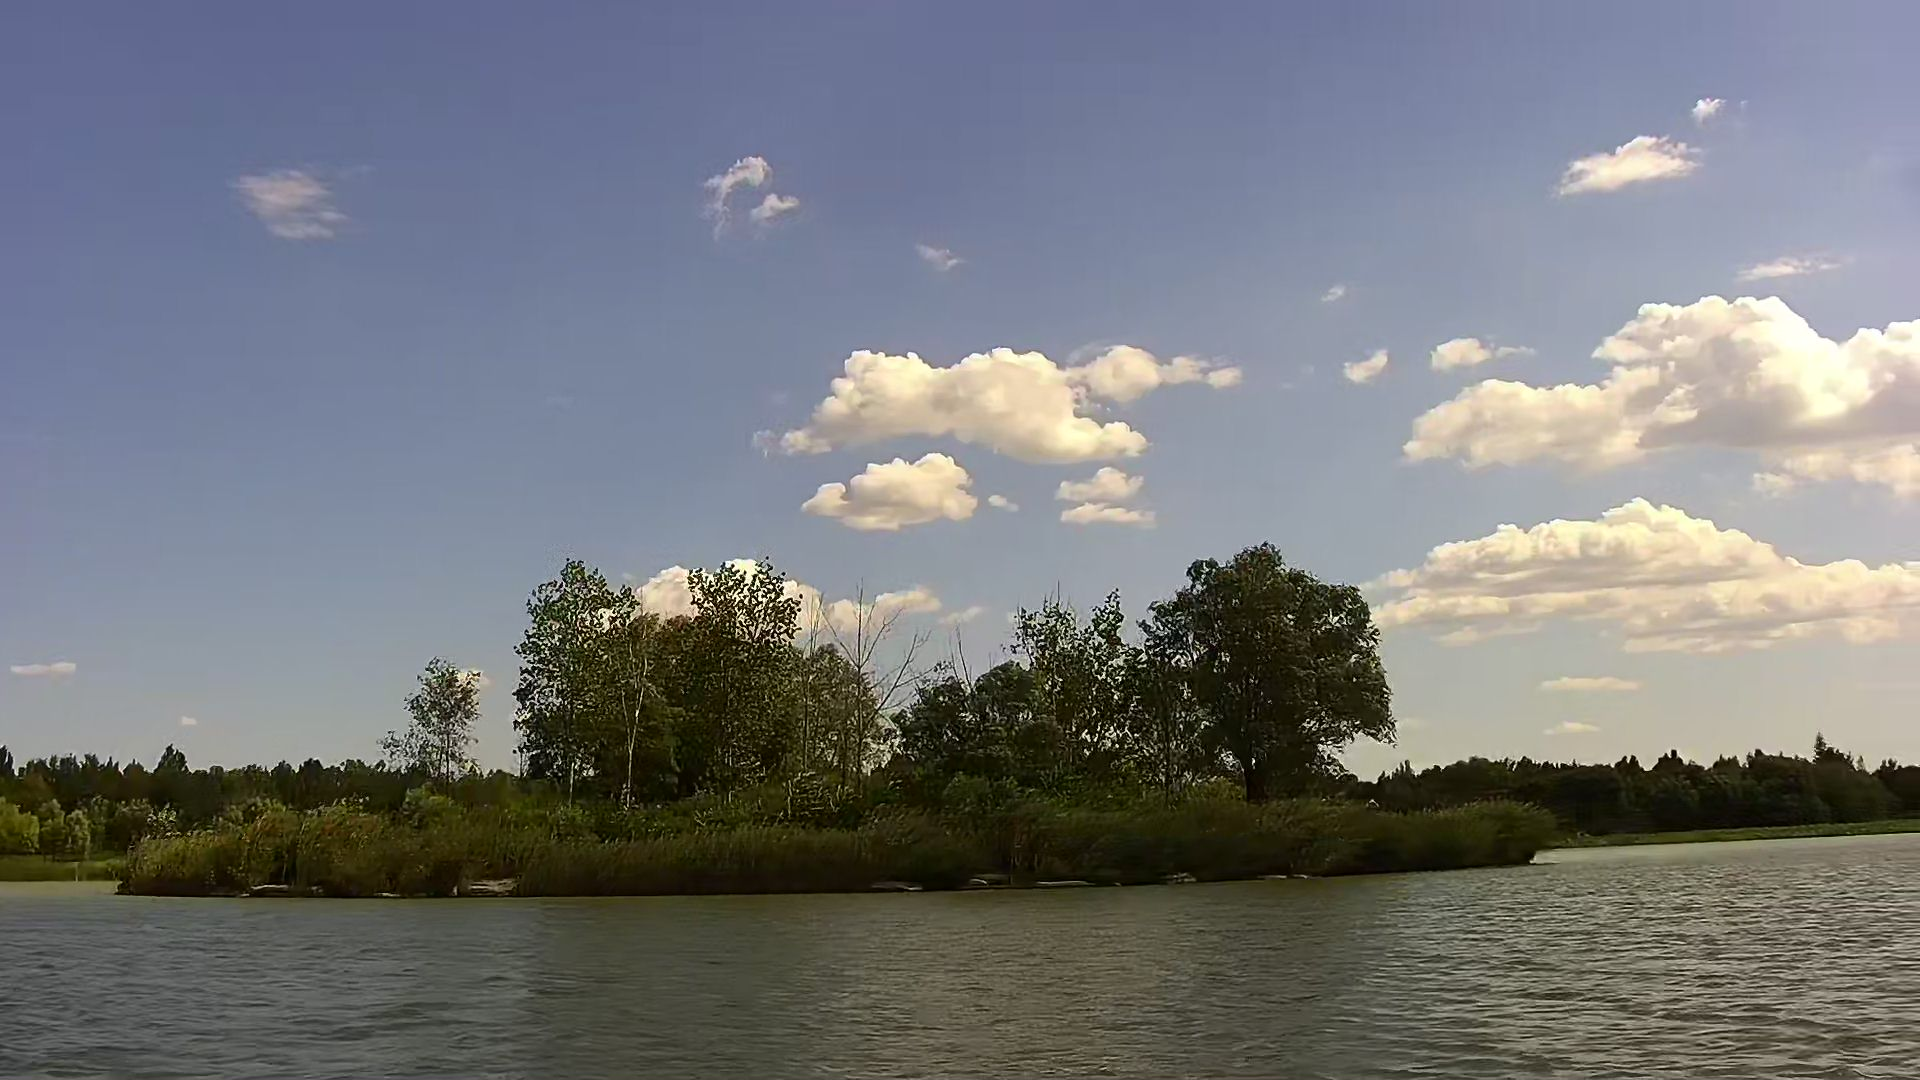rock: (448, 876, 520, 898), (1034, 869, 1088, 889), (876, 876, 924, 895), (237, 880, 303, 894), (971, 865, 1004, 886), (1267, 868, 1305, 880), (1170, 869, 1189, 880)
